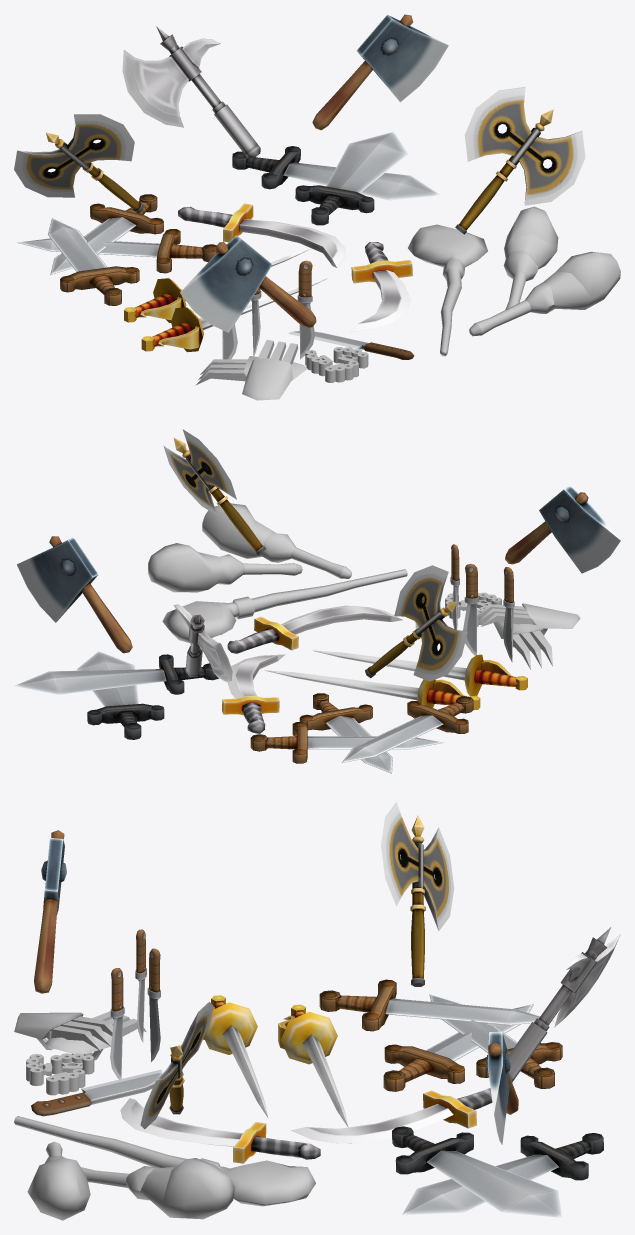
The model's file is Stall Goods (Weapons).fbx.
The picture shows the model from 3 angles, top to bottom: view 1: azimuth 30°, elevation 25°; view 2: azimuth 150°, elevation 25°; view 3: azimuth 270°, elevation 25°; orthographic projection. The views are drawn at different scales.
Visible parts, largest first — view 1: axe003.001, axe003, axe011, axe001, axe001.001, club001.001, sword002.001, staff001, sword002, sword001.002, club001, sword011.001 (+11 smaller); view 2: axe003, axe001.001, axe001, club001, staff001, axe003.001, sword002.001, club001.001, sword002, sword011, sword001.002, sword011.001 (+10 smaller); view 3: axe003, sword002.001, staff001, club001, sword002, sword001.002, sword011, sword011.001, axe011, sword001.001, sword010, club001.001 (+14 smaller).
Boxes of the visible parts, box(x1,y1,x2,y2) form: axe003.001: box(455, 87, 585, 234); axe003: box(14, 114, 144, 213); axe011: box(122, 26, 260, 159); axe001: box(180, 235, 316, 332); axe001.001: box(312, 14, 448, 130); club001.001: box(469, 251, 620, 336); sword002.001: box(295, 132, 407, 225); staff001: box(408, 224, 487, 356); sword002: box(232, 146, 440, 200); sword001.002: box(48, 218, 139, 305); club001: box(503, 206, 558, 309); sword011.001: box(178, 203, 345, 267); axe003: box(365, 565, 467, 681); axe001.001: box(17, 536, 132, 653); axe001: box(505, 485, 620, 573); club001: box(148, 543, 302, 592); staff001: box(162, 569, 407, 643); axe003.001: box(163, 429, 265, 555); sword002.001: box(14, 654, 218, 694); club001.001: box(202, 503, 351, 578); sword002: box(76, 651, 164, 739); sword011: box(227, 605, 402, 653); sword001.002: box(342, 696, 473, 762); sword011.001: box(222, 654, 285, 733); axe003: box(381, 802, 454, 986); sword002.001: box(392, 1126, 561, 1217); staff001: box(14, 1116, 315, 1206); club001: box(81, 1158, 234, 1219); sword002: box(402, 1133, 603, 1214); sword001.002: box(319, 979, 553, 1031); sword011: box(120, 1098, 320, 1163); sword011.001: box(291, 1088, 492, 1143); axe011: box(508, 927, 620, 1082); sword001.001: box(383, 1004, 533, 1091); sword010: box(278, 1004, 348, 1127); club001.001: box(27, 1141, 90, 1220).
Bounding box in the file's own units: 1.62 × 0.6661 × 1.6.
